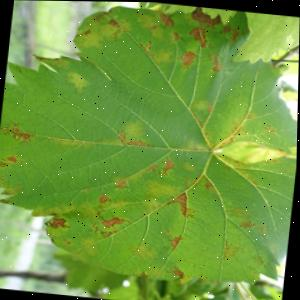Folha: (0, 0, 300, 293)
Fungo: (155, 12, 184, 42), (0, 121, 36, 145), (189, 5, 223, 29), (63, 69, 93, 94), (120, 119, 147, 139), (187, 25, 210, 47), (204, 50, 224, 72), (0, 152, 25, 169), (178, 49, 198, 69), (222, 240, 241, 261), (158, 155, 176, 177), (45, 216, 72, 230), (101, 215, 126, 229), (0, 182, 25, 196), (9, 128, 32, 140), (96, 191, 112, 208), (157, 12, 175, 27), (125, 138, 155, 147), (137, 39, 152, 54), (99, 228, 119, 238), (115, 129, 129, 143), (162, 158, 176, 172), (171, 267, 186, 279), (169, 235, 182, 248), (114, 179, 129, 190), (106, 18, 121, 28), (185, 207, 197, 218), (209, 62, 222, 72), (97, 194, 110, 203), (145, 163, 158, 172), (6, 156, 18, 163), (149, 23, 157, 29)
